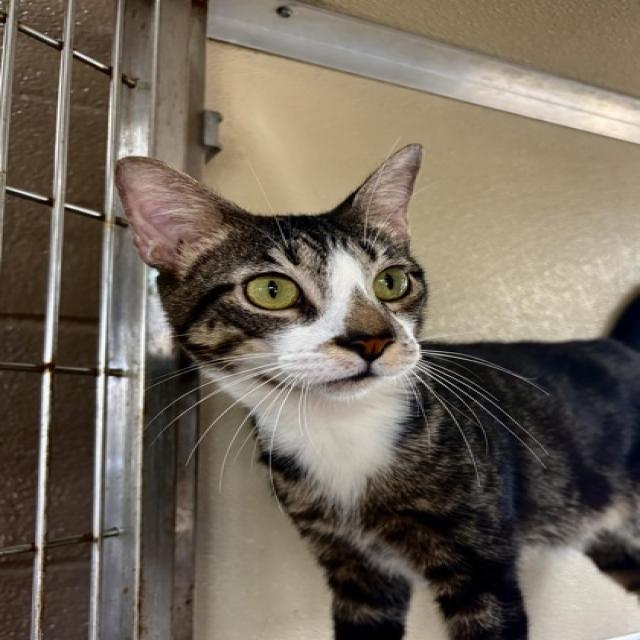domestic_short_hair_cat: (100, 126, 467, 411)
